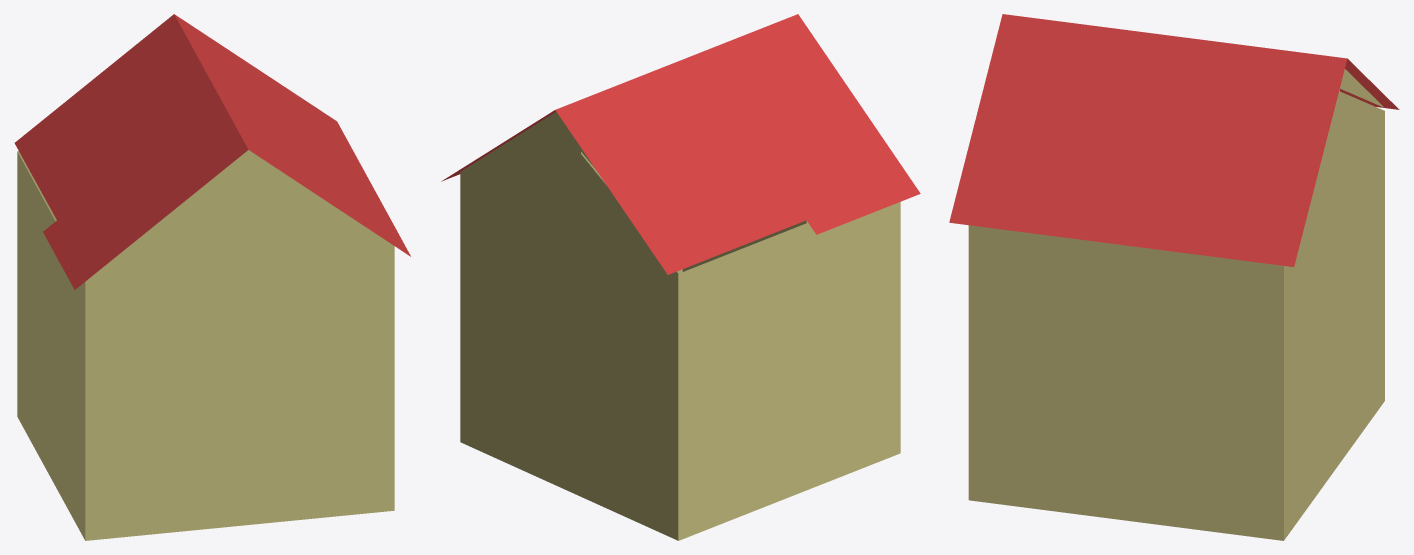
3 renders of one model, left to right at view 1: azimuth 30°, elevation 25°; view 2: azimuth 150°, elevation 25°; view 3: azimuth 270°, elevation 25°, orthographic. The views are drawn at different scales.
Size of the model in its own units: 15.09 by 14.57 by 14.87.
